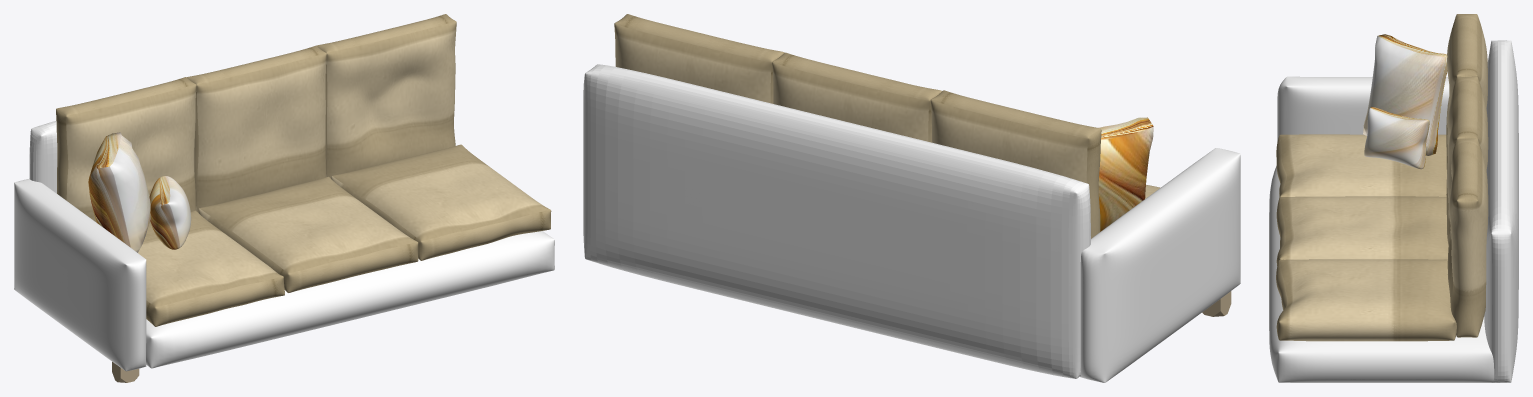
Rendered from sofa (1).glb.
The picture shows the model from 3 angles, left to right: view 1: azimuth 30°, elevation 25°; view 2: azimuth 150°, elevation 25°; view 3: azimuth 270°, elevation 25°; orthographic projection. The views are drawn at different scales.
Parts seen in each view (by area): view 1: Cube, Cube.005, Cube.008, Cube.003, Cube.006, Cube.004, Cube.007, Cube.002, Cube.013, Cube.012, Cube.001; view 2: Cube.001, Cube.003, Cube.007, Cube.008, Cube.005, Cube.013; view 3: Cube.004, Cube, Cube.006, Cube.001, Cube.002, Cube.008, Cube.013, Cube.003, Cube.012, Cube.005, Cube.007.
Boxes of the visible parts, x1,y1,x2,y2 form: Cube: [146, 231, 554, 368]; Cube.005: [187, 45, 326, 212]; Cube.008: [316, 14, 456, 178]; Cube.003: [14, 178, 146, 371]; Cube.006: [198, 176, 418, 292]; Cube.004: [331, 144, 551, 260]; Cube.007: [56, 77, 196, 221]; Cube.002: [138, 210, 284, 326]; Cube.013: [88, 132, 150, 252]; Cube.012: [149, 176, 191, 249]; Cube.001: [29, 121, 57, 193]; Cube.001: [583, 64, 1090, 378]; Cube.003: [1080, 148, 1240, 382]; Cube.007: [930, 90, 1101, 238]; Cube.008: [614, 14, 784, 103]; Cube.005: [772, 52, 941, 142]; Cube.013: [1098, 117, 1153, 231]; Cube.004: [1276, 259, 1456, 341]; Cube: [1269, 166, 1499, 382]; Cube.006: [1276, 196, 1448, 265]; Cube.001: [1484, 40, 1518, 382]; Cube.002: [1276, 134, 1446, 198]; Cube.008: [1447, 138, 1488, 337]; Cube.013: [1363, 34, 1447, 155]; Cube.003: [1277, 76, 1449, 141]; Cube.012: [1364, 107, 1429, 169]; Cube.005: [1446, 76, 1488, 244]; Cube.007: [1446, 14, 1487, 173].
Size of the model in its own units: 6.41 by 2.87 by 3.24.
Materials: 11 (8 with a texture image).
